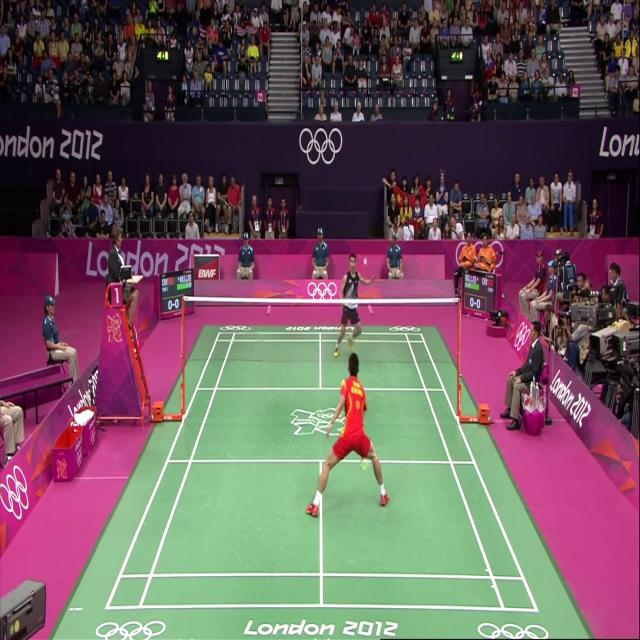Net: (180, 294, 461, 369)
Player1: (304, 329, 394, 522)
Player2: (339, 247, 375, 352)
Shuttlecock: (360, 251, 370, 269)
